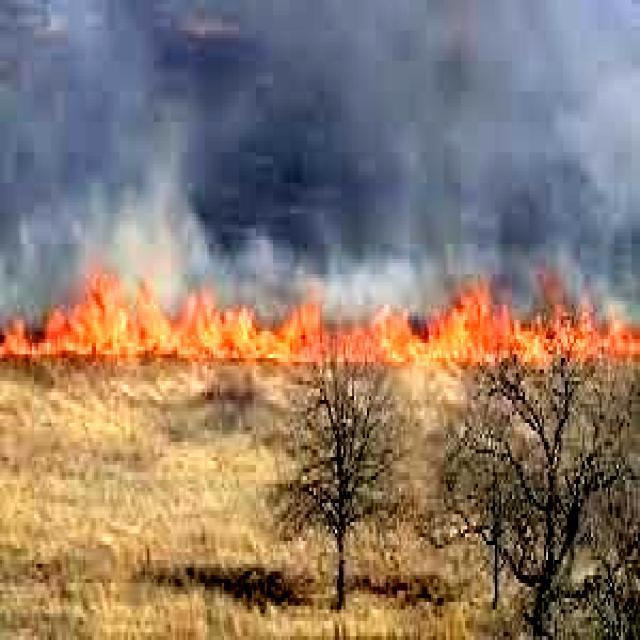Fire: (0, 246, 637, 394)
Smoke: (4, 11, 640, 282)
